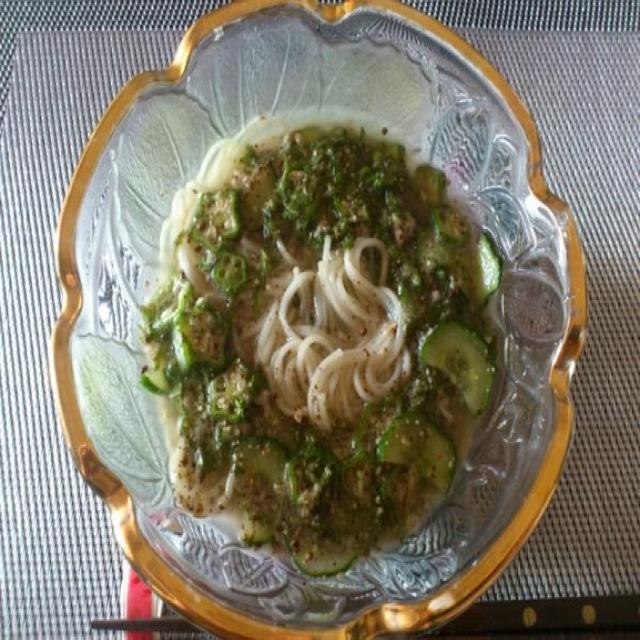面条主食: (31, 2, 603, 628)
